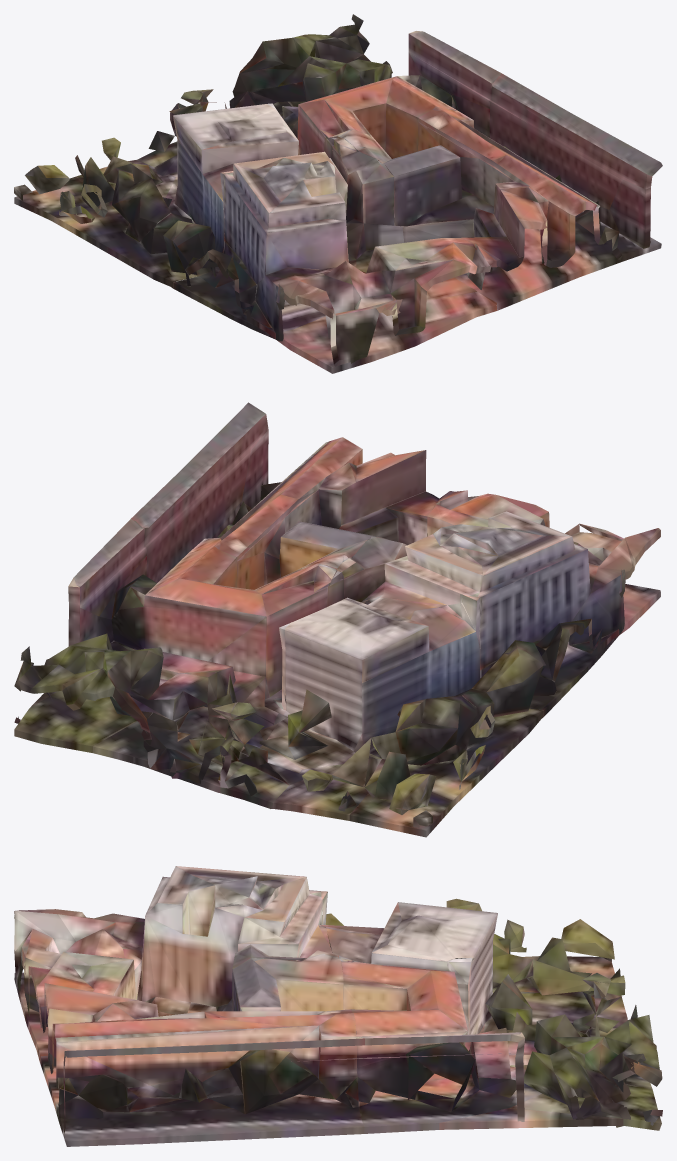
3 views of the same model, one above another, from view 1: azimuth 30°, elevation 25°; view 2: azimuth 150°, elevation 25°; view 3: azimuth 270°, elevation 25° (orthographic). The views are drawn at different scales.
Parts seen in each view (by area): view 1: Mesh_0; view 2: Mesh_0; view 3: Mesh_0.
Part boxes in pixels (<box>): Mesh_0: <box>14,14,662,373</box>; Mesh_0: <box>14,402,660,837</box>; Mesh_0: <box>14,866,662,1146</box>.
Size of the model in its own units: 134 by 40.33 by 165.
Materials: 1 (1 with a texture image).
